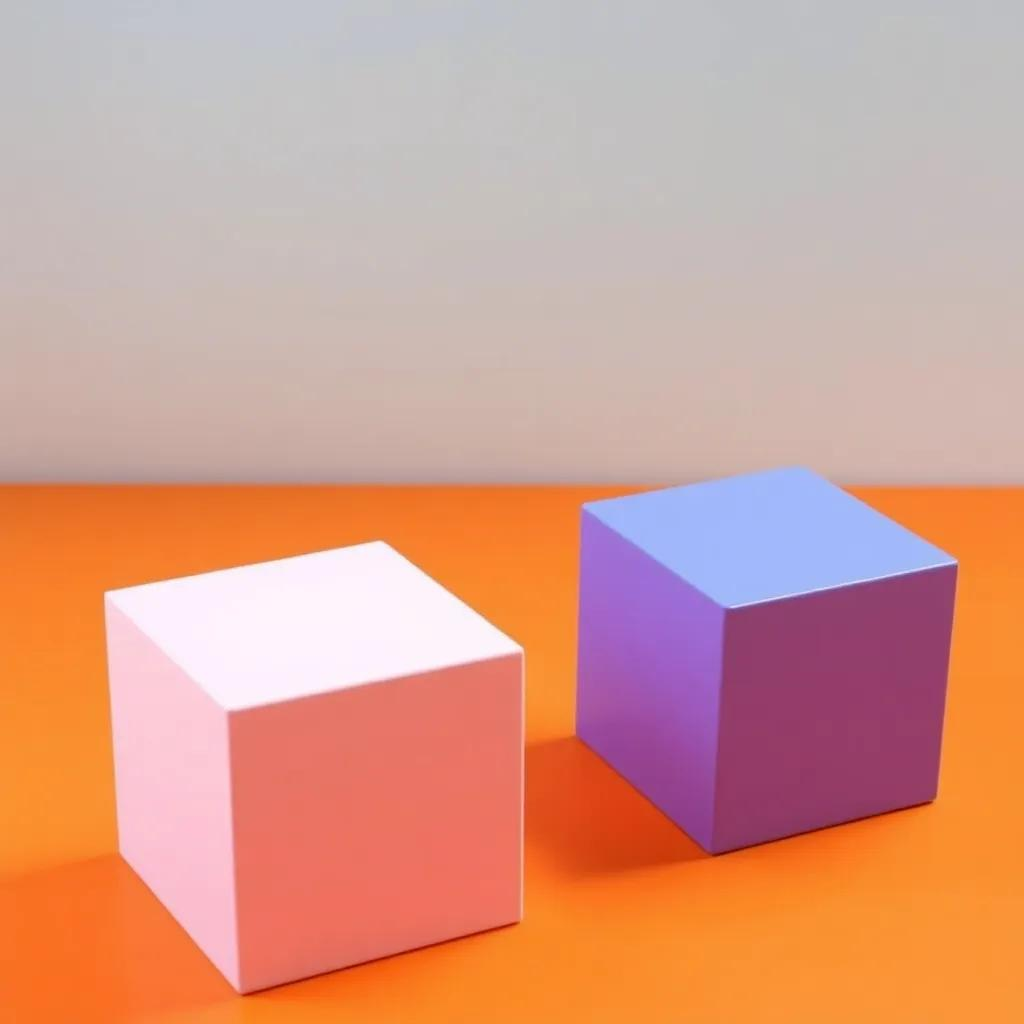cube: (102, 537, 526, 995), (574, 463, 958, 855)
